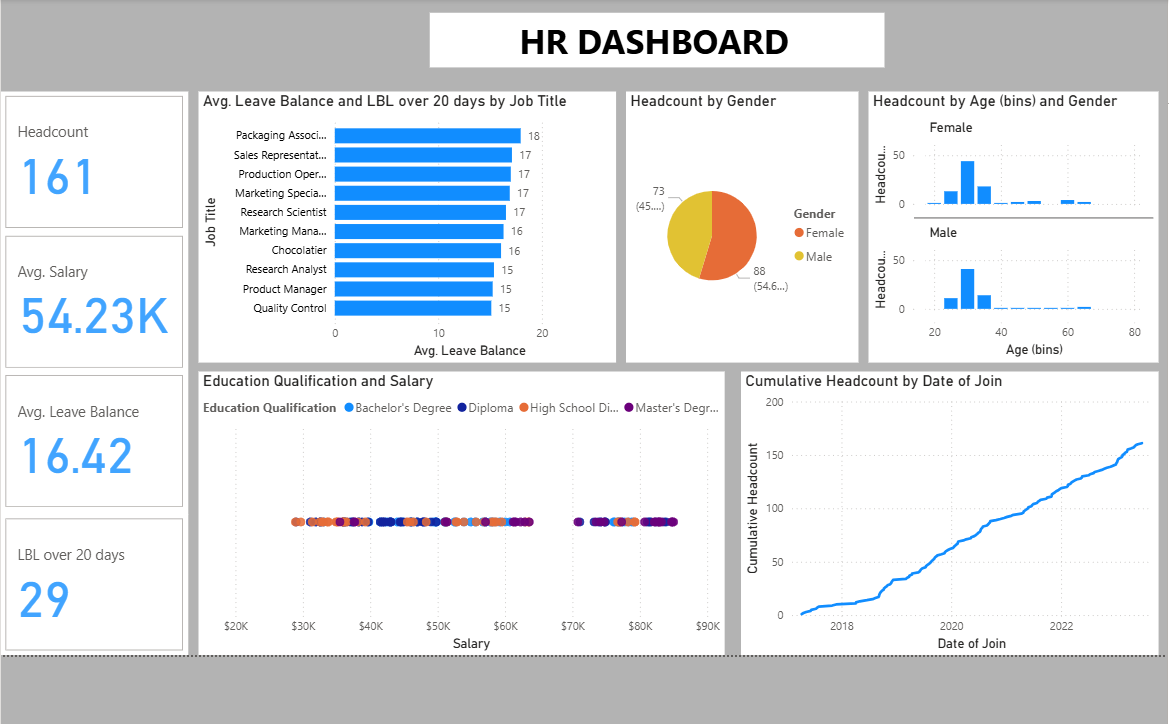

Layout of this report page (visuals, bound fields, positions):
{"tool":"powerbi","page":{"name":"Page 10","canvas":[1280,720],"ordinal":9},"visuals":[{"type":"cardVisual","fields":{"Data":["data.Headcount","data.Avg. Salary","data.Avg. Leave Balance"]},"box":[0,101.5,205.8,463.8],"z":0},{"type":"cardVisual","fields":{"Data":["data.LBL over 20 days"]},"box":[0,565.4,205.8,155.1],"z":1000},{"type":"barChart","fields":{"Category":["data.Job Title"],"Y":["data.Avg. Leave Balance"]},"box":[216.8,101.5,458.3,297.8],"z":2000},{"type":"pieChart","fields":{"Category":["data.Gender"],"Y":["data.Headcount"]},"box":[686.1,101.5,255.2,297.8],"z":3000},{"type":"clusteredColumnChart","fields":{"Category":["data.Age (bins)"],"Y":["data.Headcount"],"Rows":["data.Gender"]},"box":[952.3,101.5,318.4,297.8],"z":4000},{"type":"scatterChart","fields":{"X":["data.Salary"],"Series":["data.Education Qualification"]},"box":[216.8,408.9,577.7,311.5],"z":5000},{"type":"lineChart","fields":{"Y":["data.Cumulative Headcount"],"Category":["data.Date of Join"]},"box":[812.4,408.9,458.3,311.5],"z":6000},{"type":"textbox","box":[489.9,15.1,481.6,60.4],"z":7000}]}

Visuals, with their boxes in screenshot pixels (x1, y1, x2, y2):
cardVisual - data.Headcount x data.Avg. Salary: left=9, top=94, right=194, bottom=512
cardVisual - data.LBL over 20 days: left=9, top=512, right=194, bottom=652
barChart - data.Job Title x data.Avg. Leave Balance: left=204, top=94, right=617, bottom=363
pieChart - data.Gender x data.Headcount: left=627, top=94, right=857, bottom=363
clusteredColumnChart - data.Age (bins) x data.Headcount: left=867, top=94, right=1154, bottom=363
scatterChart - data.Salary x data.Education Qualification: left=204, top=371, right=725, bottom=652
lineChart - data.Cumulative Headcount x data.Date of Join: left=741, top=371, right=1154, bottom=652
textbox: left=450, top=17, right=884, bottom=71
